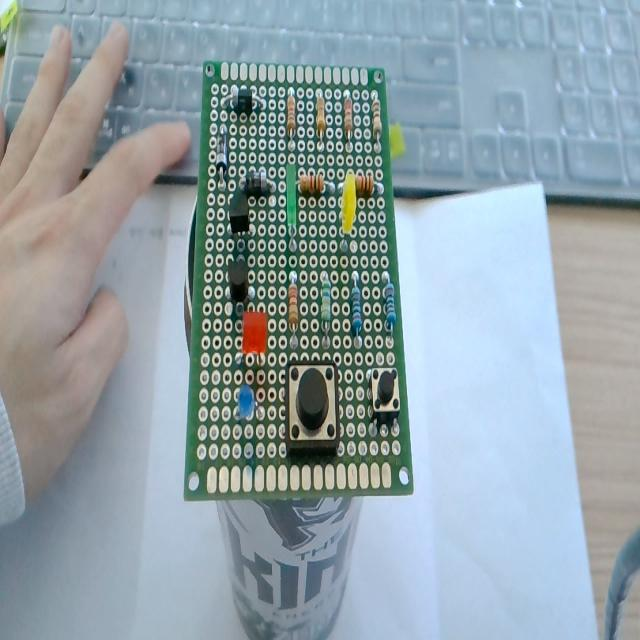diode: (224, 85, 265, 118), (240, 170, 276, 199), (215, 126, 228, 185)
led: (241, 309, 268, 357), (340, 170, 356, 248), (286, 162, 297, 252), (234, 383, 259, 422)
resistor: (297, 174, 343, 196), (350, 273, 362, 344), (382, 274, 396, 334), (321, 276, 332, 346), (288, 273, 298, 345), (354, 172, 376, 196), (316, 94, 326, 144), (344, 96, 353, 149), (372, 98, 382, 142), (286, 94, 295, 135)
switch: (284, 357, 342, 458), (369, 366, 402, 433)
transistor: (228, 188, 250, 233), (228, 257, 249, 301)
